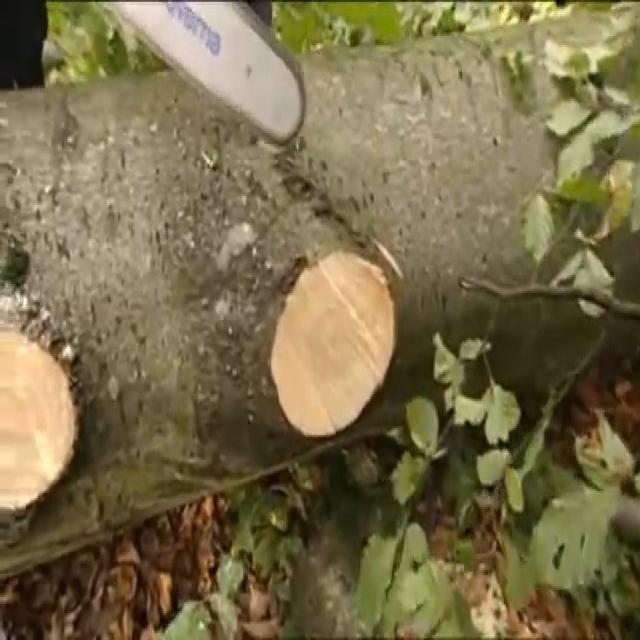Chainsaw: (85, 3, 312, 152)
